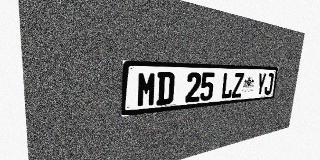2: (185, 72, 202, 103)
5: (200, 72, 215, 101)
D: (156, 72, 175, 106)
J: (264, 73, 274, 95)
L: (220, 72, 234, 99)
M: (136, 72, 157, 108)
Y: (255, 73, 266, 96)
Z: (231, 73, 244, 98)
